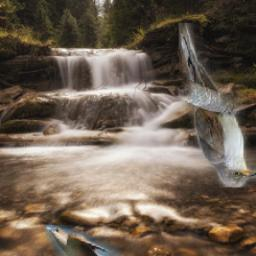Cuckoo: (179, 23, 256, 187), (45, 225, 140, 256)
